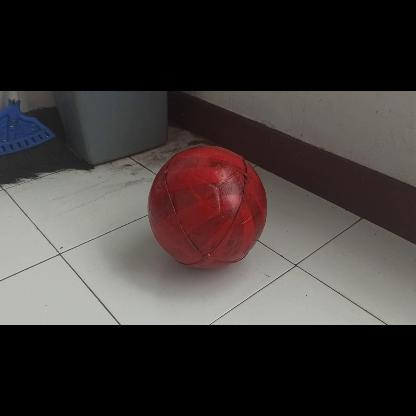red_ball: (146, 148, 270, 272)
